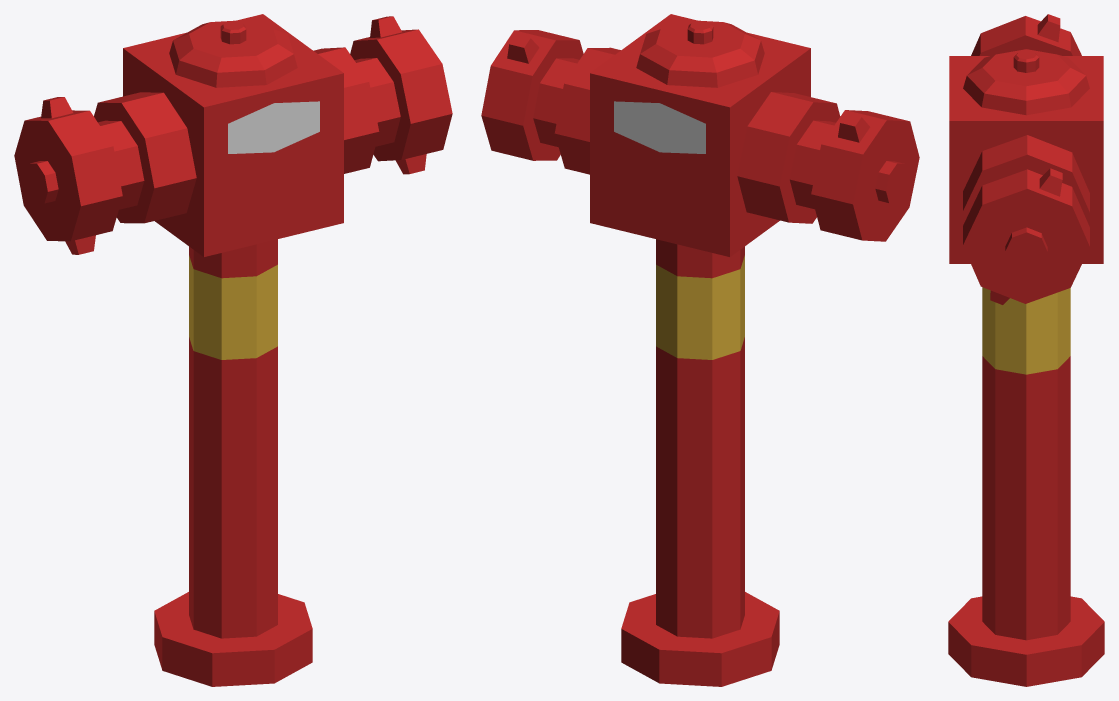
The model's file is fireHydrant.fbx.
The picture shows the model from 3 angles, left to right: view 1: azimuth 30°, elevation 25°; view 2: azimuth 150°, elevation 25°; view 3: azimuth 270°, elevation 25°; orthographic projection. The views are drawn at different scales.
Parts seen in each view (by area): view 1: fireHydrant; view 2: fireHydrant; view 3: fireHydrant.
Part boxes in pixels (bbox=[...]): fireHydrant: bbox=[14, 14, 452, 686]; fireHydrant: bbox=[481, 14, 919, 686]; fireHydrant: bbox=[948, 14, 1104, 686].
Bounding box in the file's own units: 78.64 × 120 × 28.41.
1 material, 1 textured.
